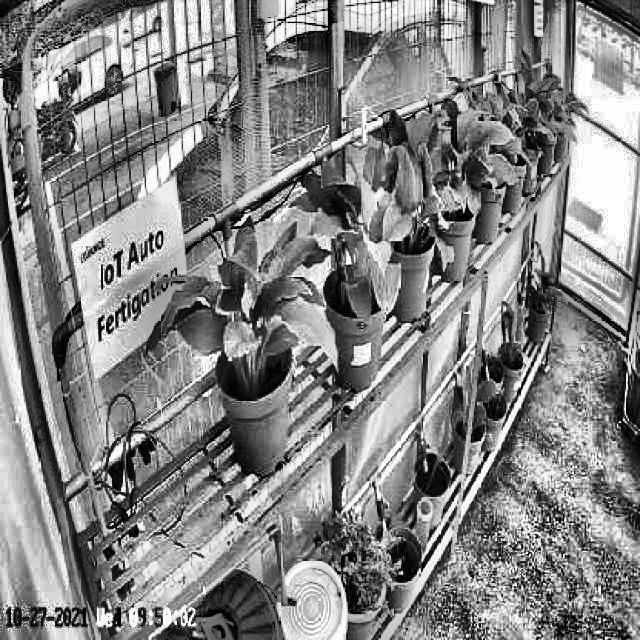plants: (147, 218, 340, 394), (299, 164, 399, 318), (368, 122, 452, 284), (420, 95, 525, 219)
